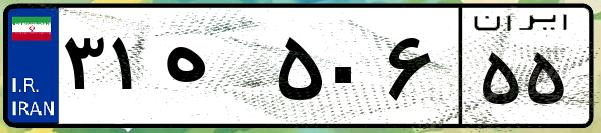0: (330, 28, 385, 110)
1: (110, 28, 158, 98)
3: (57, 26, 110, 100)
5: (270, 28, 330, 110), (475, 38, 525, 113), (525, 38, 570, 115)
6: (385, 28, 445, 110)
ه: (158, 20, 270, 120)
